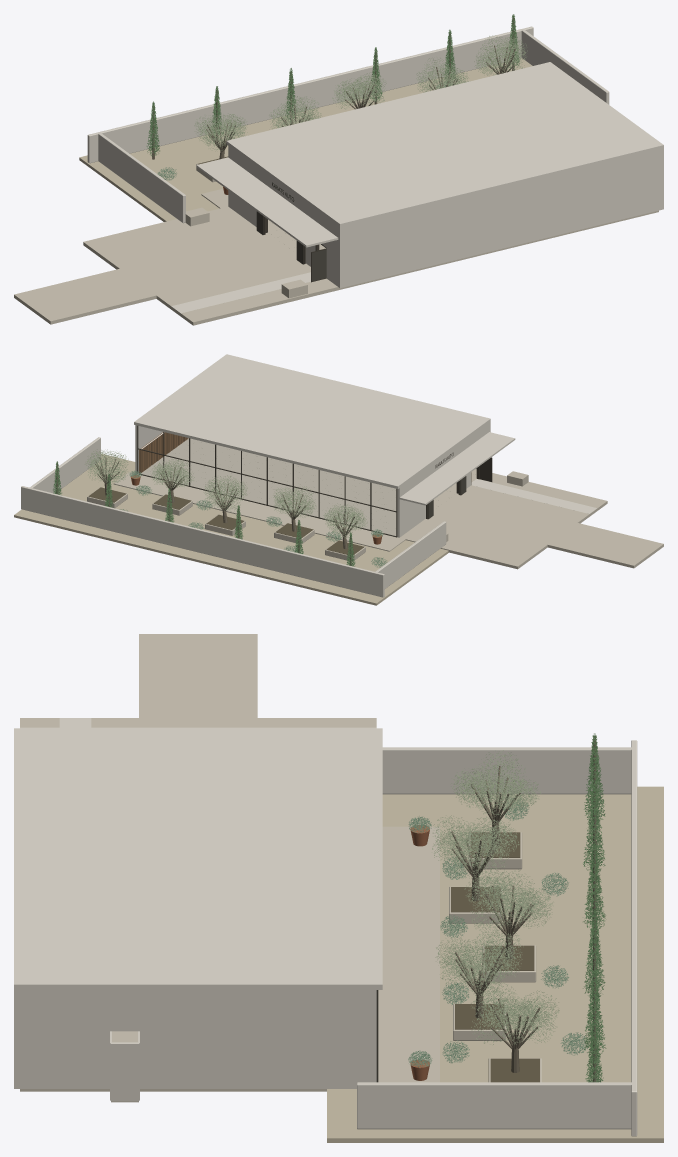
Rendered from Karats-R21-Chisel.glb.
3 renders of one model, top to bottom at view 1: azimuth 30°, elevation 25°; view 2: azimuth 150°, elevation 25°; view 3: azimuth 270°, elevation 25°, orthographic. The views are drawn at different scales.
Parts seen in each view (by area): view 1: ROOM_CEILING, NORTH_SOLID_WALL, FORECOURT_14x18, SPANISH_LIME_BOUNDARY, EXTERIOR_GROUND, ROAD_CONNECTION, ENTRANCE_CANOPY, GARDEN_WEST_BOUNDARY, GARDEN_EAST_BOUNDARY, OLIVE_CROWN_4, PEDESTRIAN_PATH, OLIVE_CROWN_0 (+8 smaller); view 2: ROOM_CEILING, ROOM_FLOOR_30x18, EXTERIOR_GROUND, FORECOURT_14x18, SPANISH_LIME_BOUNDARY, TERRACE, ROAD_CONNECTION, ENTRANCE_CANOPY, GARDEN_WEST_BOUNDARY, GARDEN_EAST_BOUNDARY, WEST_WALL.002, PEDESTRIAN_PATH (+7 smaller); view 3: ROOM_CEILING, EXTERIOR_GROUND, EAST_BRAND_WALL, TERRACE, GARDEN_EAST_BOUNDARY, GARDEN_WEST_BOUNDARY, ROAD_CONNECTION, EAST_RIGHT_WALL, FORECOURT_14x18, OLIVE_CROWN_3, OLIVE_CROWN_2, OLIVE_CROWN_1 (+16 smaller).
Boxes of the visible parts, x1=… form: ROOM_CEILING: x1=226, y1=62, x2=663, y2=227; NORTH_SOLID_WALL: x1=338, y1=148, x2=663, y2=288; FORECOURT_14x18: x1=83, y1=206, x2=341, y2=325; SPANISH_LIME_BOUNDARY: x1=87, y1=26, x2=533, y2=163; EXTERIOR_GROUND: x1=79, y1=58, x2=532, y2=221; ROAD_CONNECTION: x1=14, y1=268, x2=156, y2=324; ENTRANCE_CANOPY: x1=196, y1=157, x2=338, y2=247; GARDEN_WEST_BOUNDARY: x1=98, y1=133, x2=185, y2=223; GARDEN_EAST_BOUNDARY: x1=521, y1=29, x2=609, y2=104; OLIVE_CROWN_4: x1=474, y1=35, x2=527, y2=75; PEDESTRIAN_PATH: x1=171, y1=272, x2=310, y2=313; OLIVE_CROWN_0: x1=194, y1=113, x2=247, y2=150; ROOM_CEILING: x1=134, y1=354, x2=490, y2=488; ROOM_FLOOR_30x18: x1=141, y1=438, x2=476, y2=535; EXTERIOR_GROUND: x1=14, y1=454, x2=448, y2=605; FORECOURT_14x18: x1=400, y1=473, x2=607, y2=569; SPANISH_LIME_BOUNDARY: x1=21, y1=486, x2=384, y2=597; TERRACE: x1=113, y1=472, x2=405, y2=551; ROAD_CONNECTION: x1=547, y1=523, x2=663, y2=568; ENTRANCE_CANOPY: x1=397, y1=432, x2=515, y2=505; GARDEN_WEST_BOUNDARY: x1=375, y1=521, x2=446, y2=588; GARDEN_EAST_BOUNDARY: x1=29, y1=437, x2=100, y2=493; WEST_WALL.002: x1=397, y1=467, x2=428, y2=537; PEDESTRIAN_PATH: x1=471, y1=479, x2=597, y2=513; ROOM_CEILING: x1=14, y1=728, x2=382, y2=989; EXTERIOR_GROUND: x1=327, y1=786, x2=663, y2=1142; EAST_BRAND_WALL: x1=139, y1=990, x2=376, y2=1088; TERRACE: x1=378, y1=826, x2=439, y2=1082; GARDEN_EAST_BOUNDARY: x1=357, y1=1082, x2=633, y2=1129; GARDEN_WEST_BOUNDARY: x1=382, y1=747, x2=631, y2=794; ROAD_CONNECTION: x1=139, y1=634, x2=257, y2=717; EAST_RIGHT_WALL: x1=20, y1=990, x2=110, y2=1088; FORECOURT_14x18: x1=20, y1=718, x2=376, y2=727; OLIVE_CROWN_3: x1=435, y1=930, x2=523, y2=996; OLIVE_CROWN_2: x1=464, y1=869, x2=553, y2=932; OLIVE_CROWN_1: x1=432, y1=815, x2=519, y2=878.
Bounding box in the file's own units: 60 × 6.15 × 32.8.
